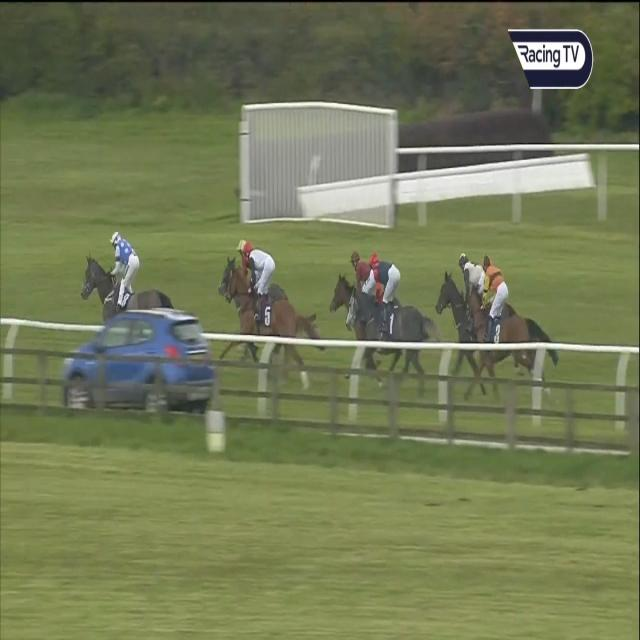horses-racing: (464, 255, 564, 391), (226, 241, 322, 376), (343, 258, 436, 390), (78, 227, 176, 330), (434, 248, 482, 355), (329, 244, 379, 320), (205, 238, 251, 310)
